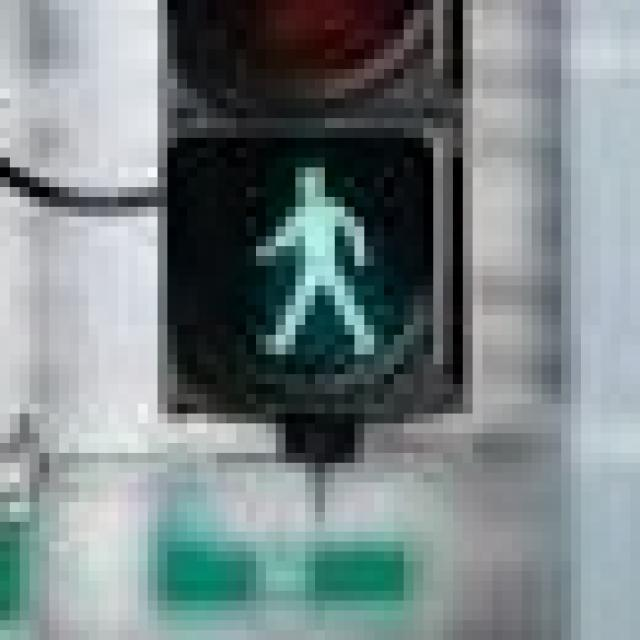geen-crossing: (216, 138, 394, 374)
